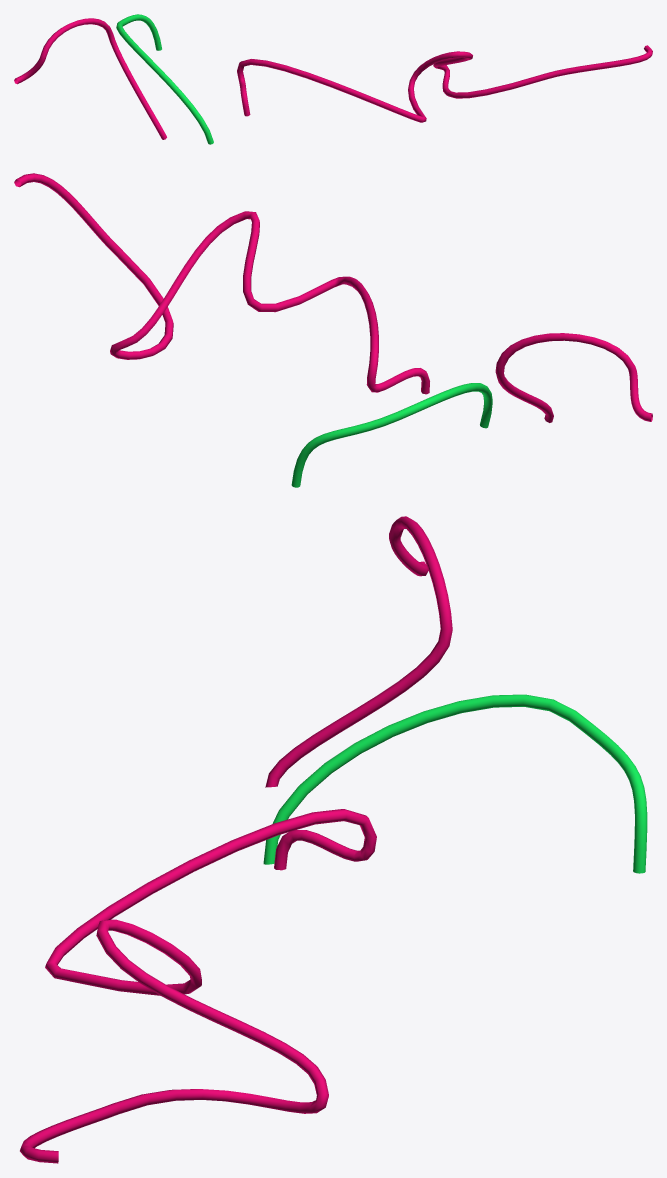
Rendered from robot_wires_colored.fbx.
3 views of the same model, one above another, from view 1: azimuth 30°, elevation 25°; view 2: azimuth 150°, elevation 25°; view 3: azimuth 270°, elevation 25° (orthographic). The views are drawn at different scales.
Parts seen in each view (by area): view 1: BezierCurve, BezierCurve.001; view 2: BezierCurve, BezierCurve.001; view 3: BezierCurve, BezierCurve.001.
Boxes of the visible parts, box(x1,y1,x2,y2) form: BezierCurve: box(14, 18, 652, 139); BezierCurve.001: box(116, 14, 213, 144); BezierCurve: box(14, 173, 652, 422); BezierCurve.001: box(291, 383, 492, 487); BezierCurve: box(20, 516, 452, 1163); BezierCurve.001: box(263, 694, 647, 873).
Size of the model in its own units: 201 by 44.43 by 101.
